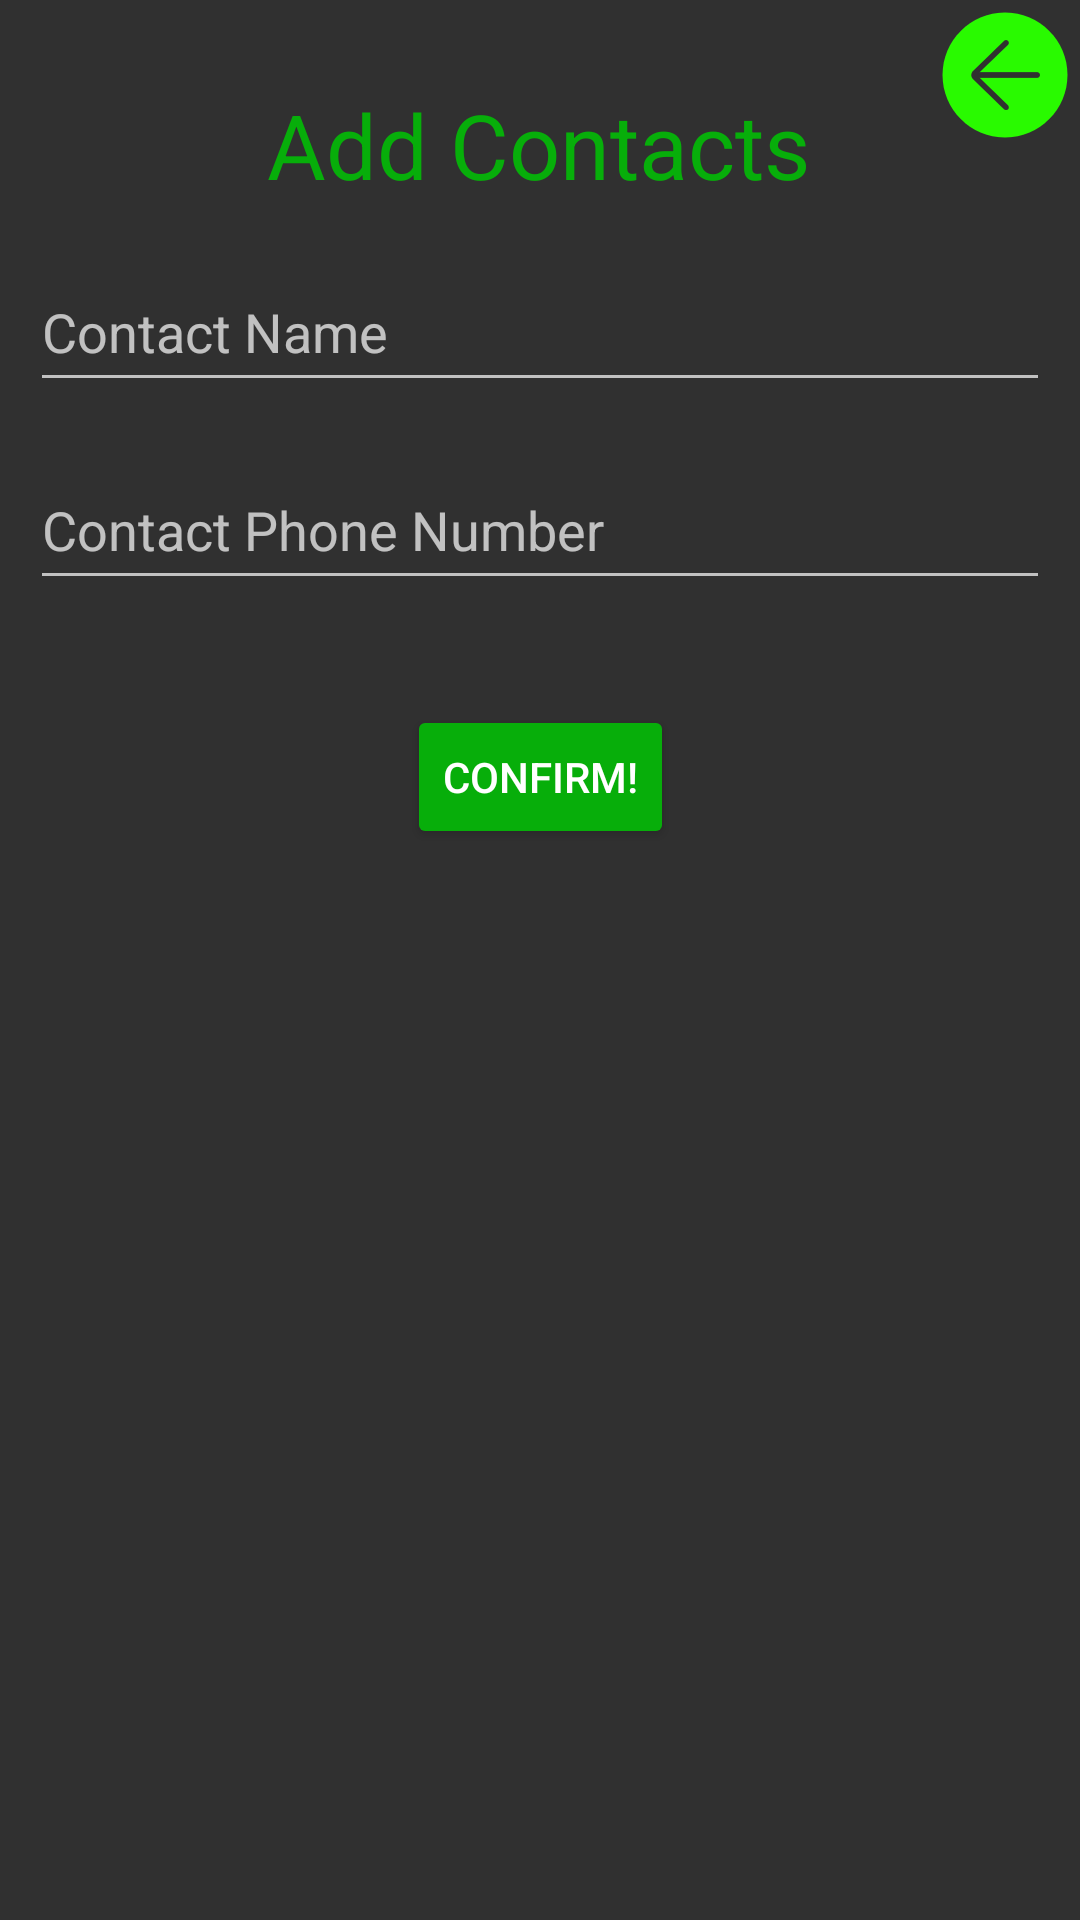

Icons on this 1080 x 1920 Android screen, each with its box as [x1,y1,x2,y2]:
back: [942,12,1068,138]
